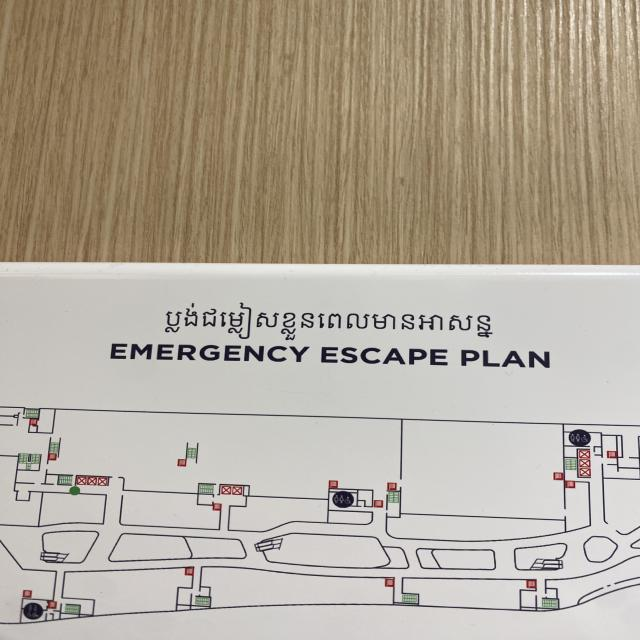Yolov11_80vkh: (159, 302, 504, 343)
